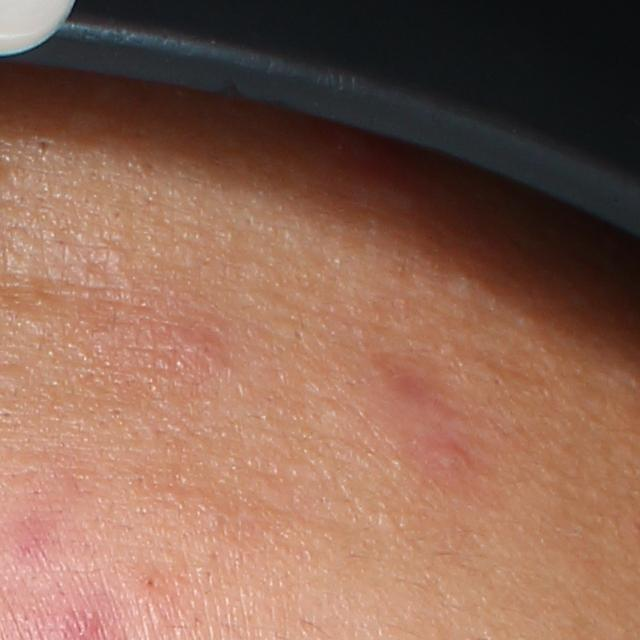comedo: (143, 575, 158, 590)
papule: (170, 330, 221, 375)
